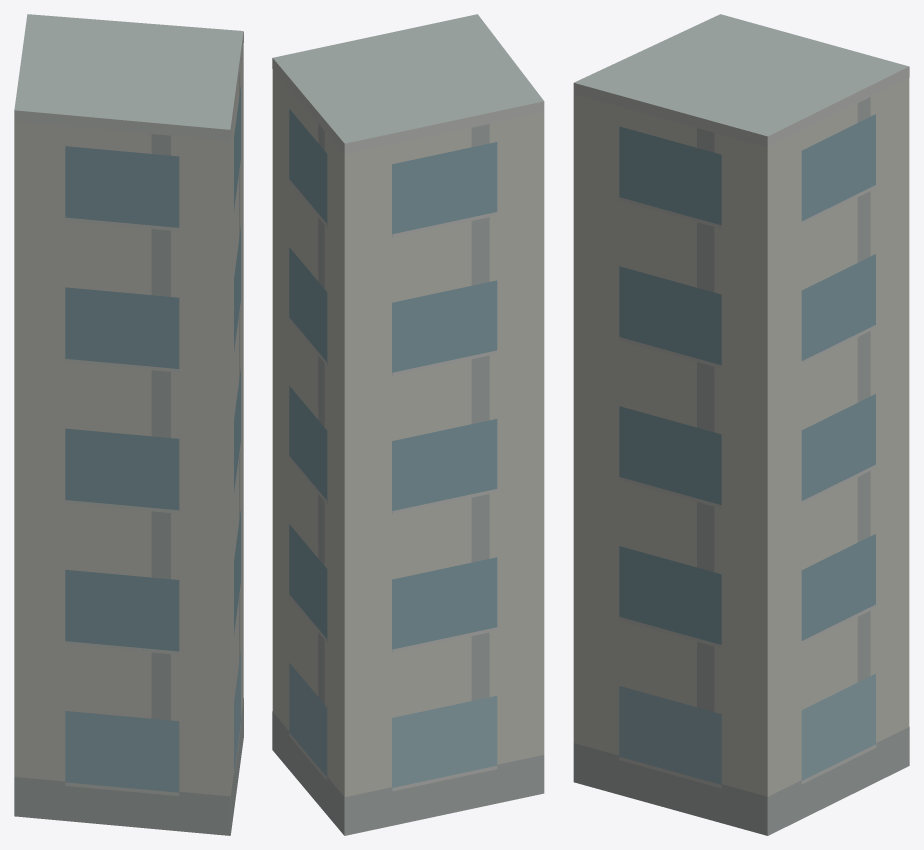
Rendered from survey-upis-32949265.glb.
3 views of the same model, side by side, from view 1: azimuth 30°, elevation 25°; view 2: azimuth 150°, elevation 25°; view 3: azimuth 270°, elevation 25° (orthographic).
Parts seen in each view (by area): view 1: survey-upis-32949265.tmp; view 2: survey-upis-32949265.tmp; view 3: survey-upis-32949265.tmp.
Boxes of the visible parts, box(x1,y1,x2,y2) form: survey-upis-32949265.tmp: box(14, 14, 243, 835); survey-upis-32949265.tmp: box(272, 14, 544, 835); survey-upis-32949265.tmp: box(573, 14, 909, 835).
Bounding box in the file's own units: 5.73 × 15.25 × 6.64.
